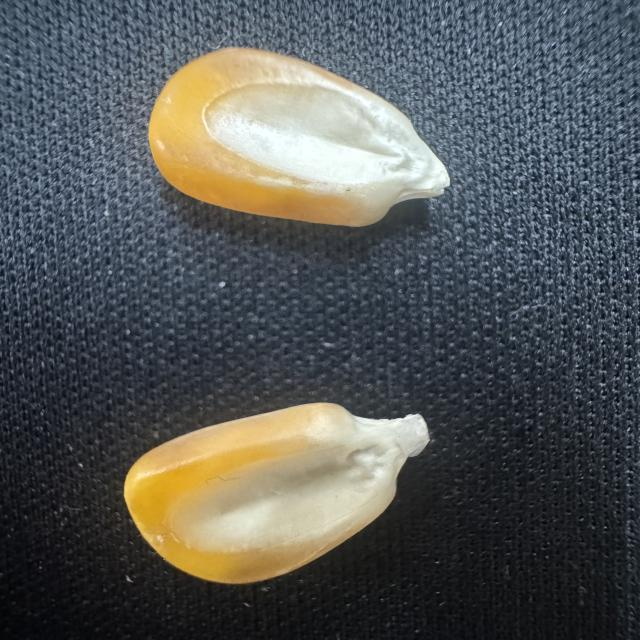Good-Seed: (120, 399, 434, 588), (142, 42, 455, 230)
